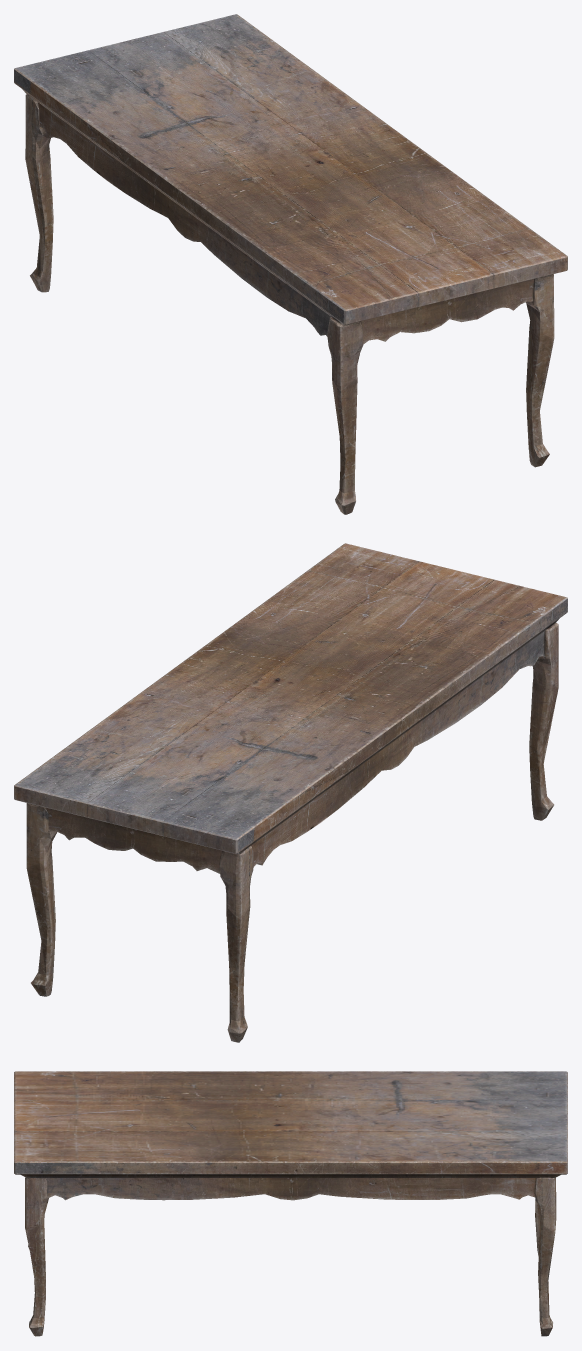
Rendered from Desk_1.fbx.
3 views of the same model, one above another, from view 1: azimuth 30°, elevation 25°; view 2: azimuth 150°, elevation 25°; view 3: azimuth 270°, elevation 25° (orthographic). The views are drawn at different scales.
Visible parts, largest first — view 1: 3D_OldDesk.mo; view 2: 3D_OldDesk.mo; view 3: 3D_OldDesk.mo.
Boxes of the visible parts, box(x1,y1,x2,y2) form: 3D_OldDesk.mo: box(14, 14, 567, 514); 3D_OldDesk.mo: box(14, 543, 567, 1042); 3D_OldDesk.mo: box(14, 1071, 567, 1336).
Bounding box in the file's own units: 94.38 × 86.98 × 242.
1 material, 1 textured.
